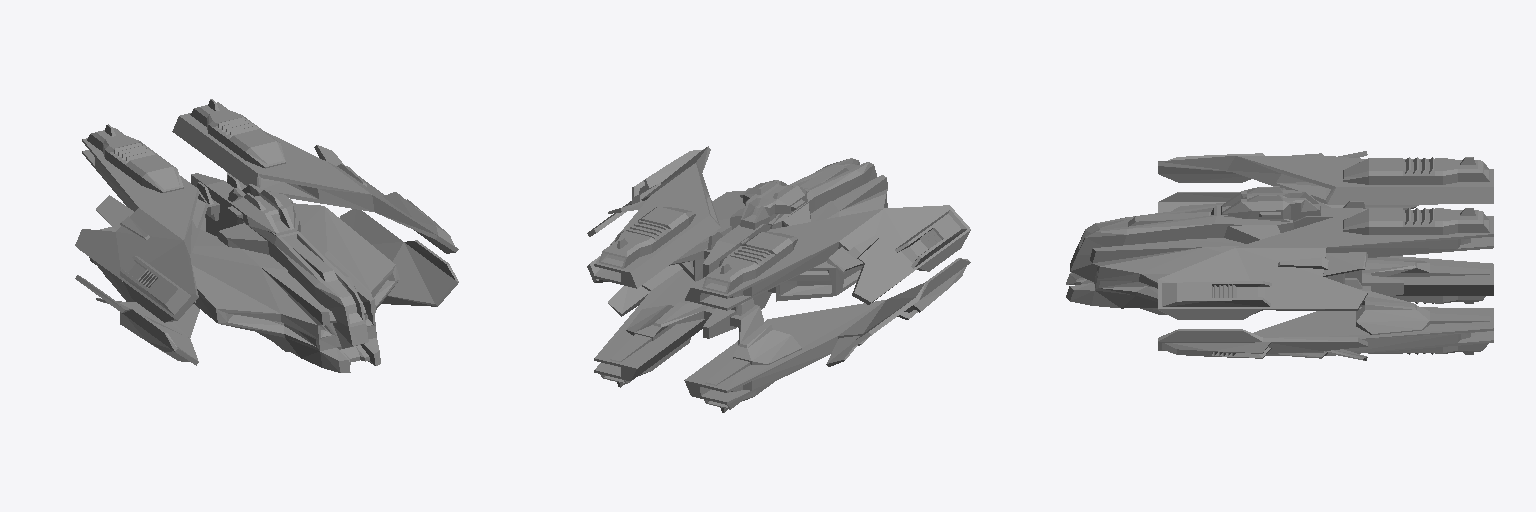
File: scifi.obj
3 renders of one model, left to right at view 1: azimuth 30°, elevation 25°; view 2: azimuth 150°, elevation 25°; view 3: azimuth 270°, elevation 25°, orthographic.
Visible parts, largest first — view 1: SciFi_Fighter_AK5; view 2: SciFi_Fighter_AK5; view 3: SciFi_Fighter_AK5.
Part boxes in pixels (x1,y1,x2,y2): SciFi_Fighter_AK5: (75, 99, 458, 372); SciFi_Fighter_AK5: (587, 146, 970, 412); SciFi_Fighter_AK5: (1066, 151, 1493, 360).
Size of the model in its own units: 3.89 by 1.89 by 5.